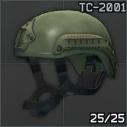MSA ACH TC-2001 MICH Series helmet: (0, 0, 127, 127)
